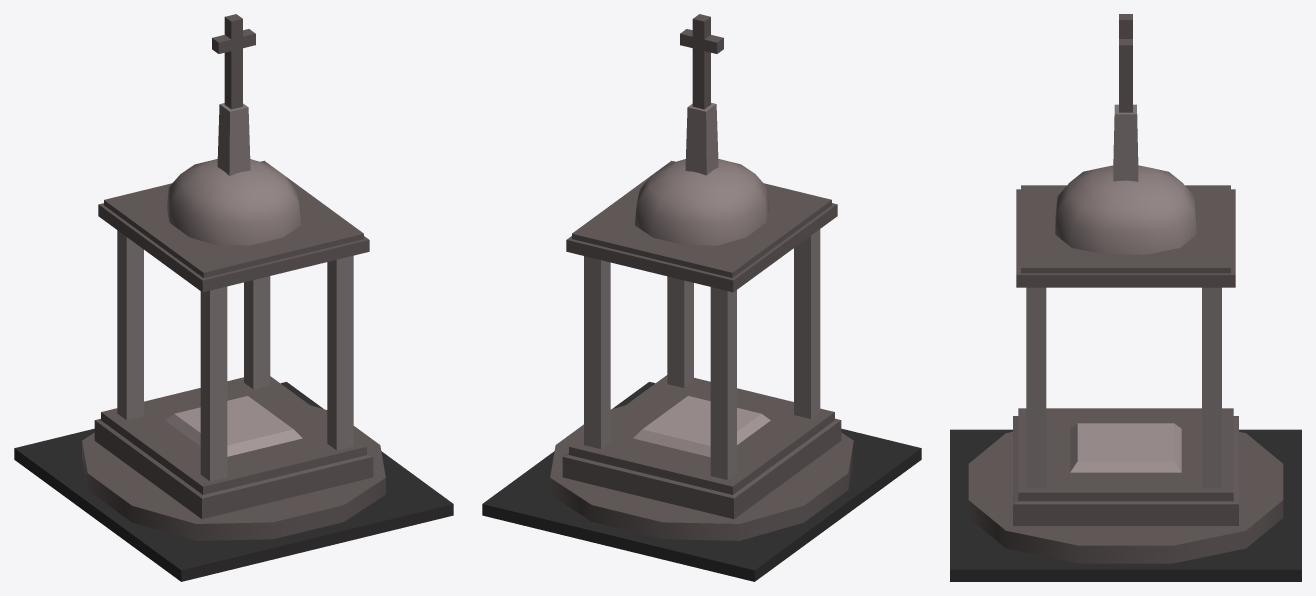
File: HWN20_Grave_18.glb
The picture shows the model from 3 angles, left to right: view 1: azimuth 30°, elevation 25°; view 2: azimuth 150°, elevation 25°; view 3: azimuth 270°, elevation 25°; orthographic projection. The views are drawn at different scales.
Visible parts, largest first — view 1: HWN20_Grave_18; view 2: HWN20_Grave_18; view 3: HWN20_Grave_18.
Part boxes in pixels (left/top/right/bottom): HWN20_Grave_18: left=14, top=14, right=453, bottom=581; HWN20_Grave_18: left=482, top=14, right=921, bottom=581; HWN20_Grave_18: left=950, top=14, right=1301, bottom=581.
Size of what is drawn, in the model's own units: 1.47 by 2.42 by 1.56.
Materials: 1 (1 with a texture image).
